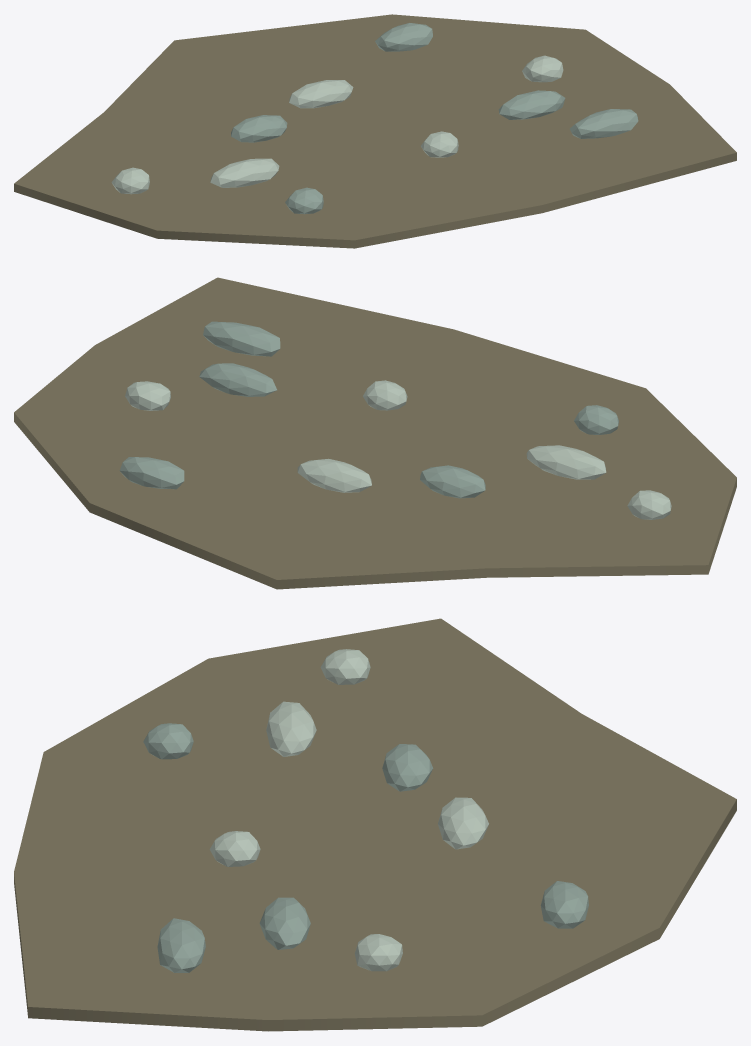
Rendered from patch-gravel-mossy.glb.
3 renders of one model, top to bottom at view 1: azimuth 30°, elevation 25°; view 2: azimuth 150°, elevation 25°; view 3: azimuth 270°, elevation 25°, orthographic. The views are drawn at different scales.
Parts seen in each view (by area): view 1: patch-gravel-kit-mossy-soil, patch-gravel-kit-mossy-stone, patch-gravel-kit-mossy-light; view 2: patch-gravel-kit-mossy-soil, patch-gravel-kit-mossy-stone, patch-gravel-kit-mossy-light; view 3: patch-gravel-kit-mossy-soil, patch-gravel-kit-mossy-stone, patch-gravel-kit-mossy-light.
Part boxes in pixels (x1,y1,x2,y2): patch-gravel-kit-mossy-soil: (14,14,736,248); patch-gravel-kit-mossy-stone: (231,23,638,214); patch-gravel-kit-mossy-light: (111,55,563,194); patch-gravel-kit-mossy-soil: (14,277,736,589); patch-gravel-kit-mossy-stone: (119,321,618,498); patch-gravel-kit-mossy-light: (125,380,671,519); patch-gravel-kit-mossy-soil: (14,618,736,1031); patch-gravel-kit-mossy-stone: (143,723,588,972); patch-gravel-kit-mossy-light: (209,649,488,971).
Size of the model in its own units: 2.66 by 0.1125 by 2.02.
